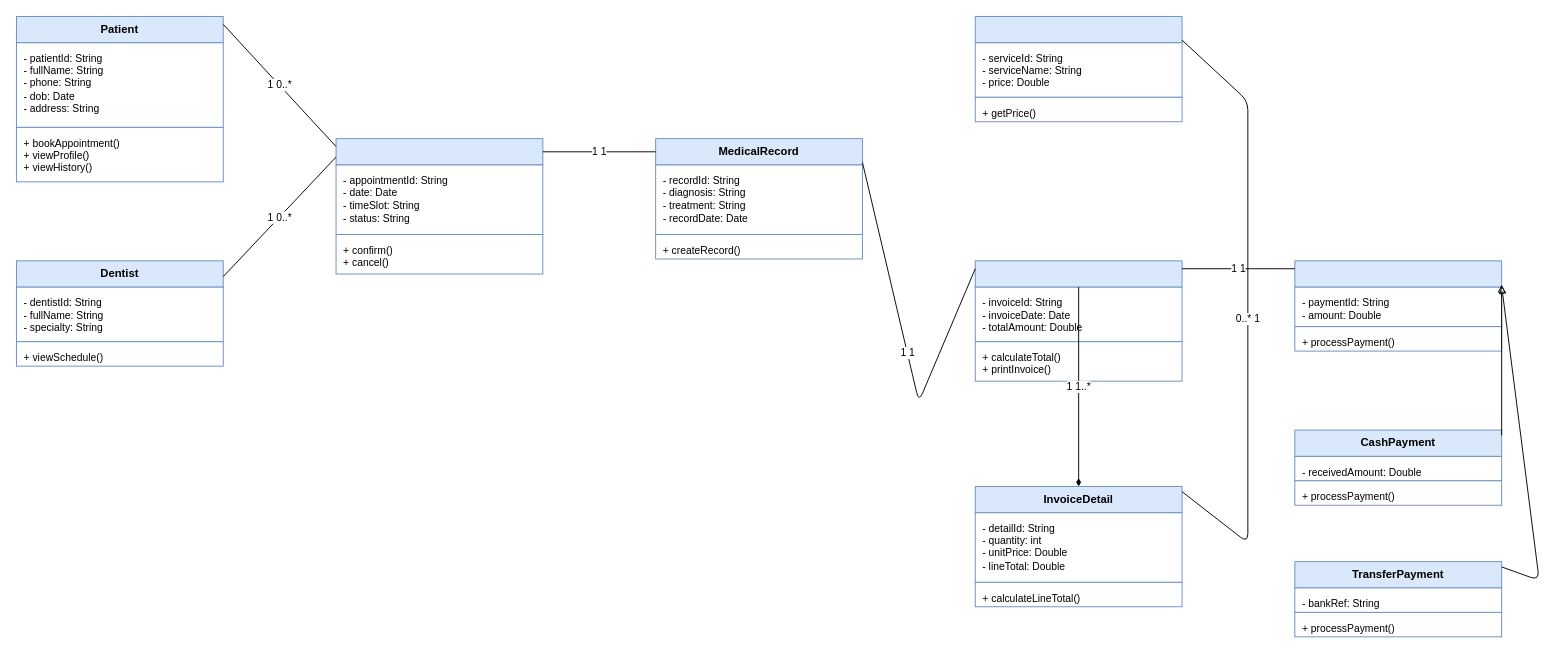
Image size: 1563x653. Some labels were removed from this diagram. Here are the shapes that lost their labels. From the top down, the centre of each, then its label:
At [1078,29]: "DentalService".
At [439,151]: "Appointment".
At [1078,273]: "Invoice".
At [1398,273]: "PaymentMethod".
